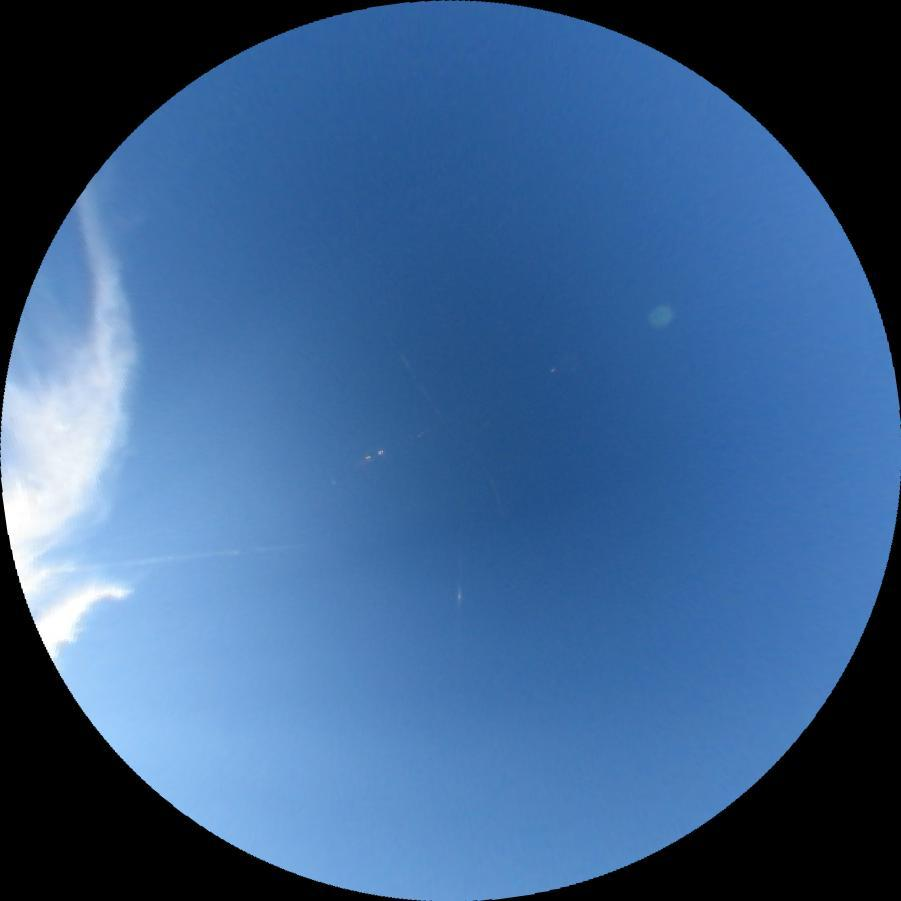parasite: (76, 540, 297, 573), (389, 341, 453, 432), (453, 585, 465, 605)
